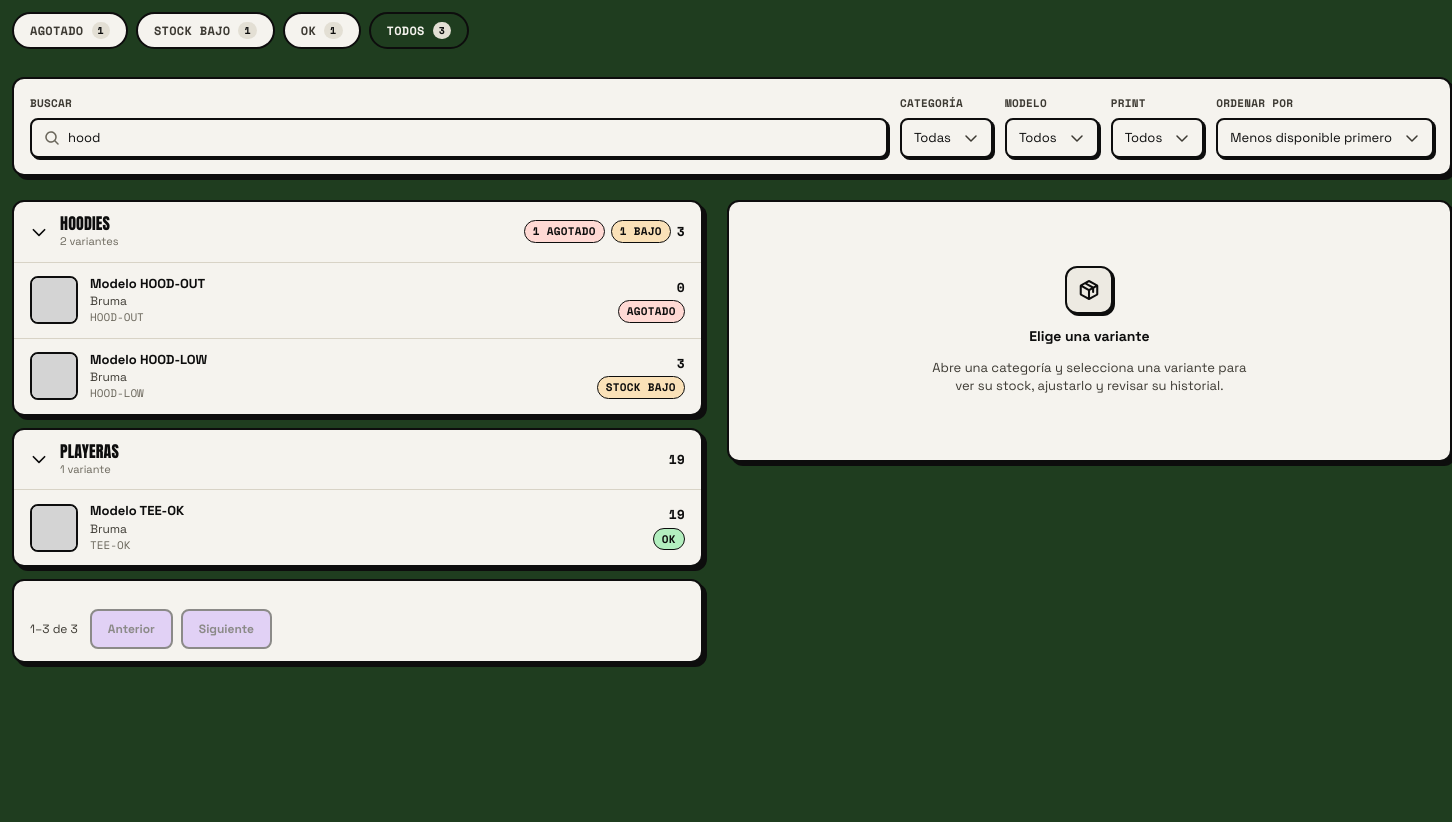
Test: InventoryPage: categorías › una búsqueda abre solas las categorías con coincidencias, y se pueden cerrar a mano
Click the button "Hoodies 2 variantes 1 agotado 1 bajo 3" at [85, 223], box [14,202,701,262]
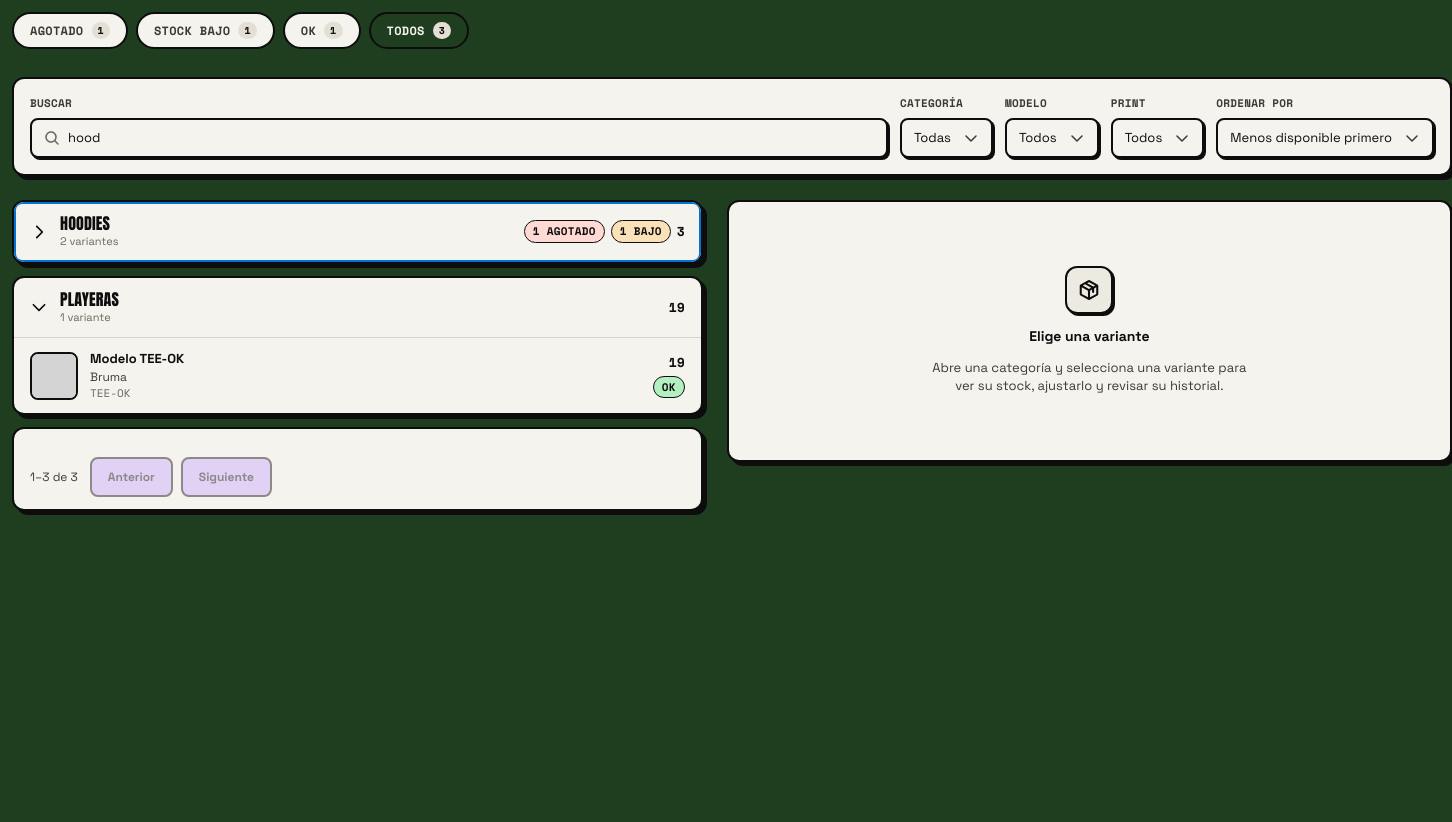
Result: the button "Hoodies 2 variantes 1 agotado 1 bajo 3" is collapsed at [14,202,701,262]
